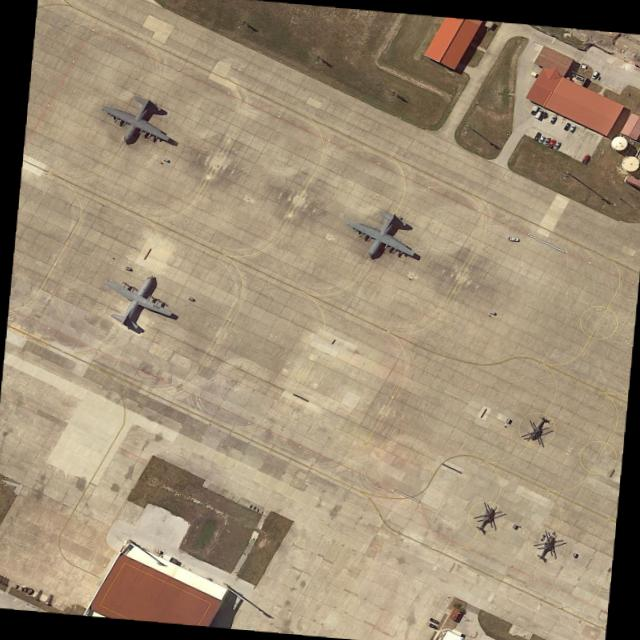large-vehicle: (532, 106, 543, 117)
plane: (89, 258, 183, 341), (88, 81, 184, 161), (334, 197, 426, 273)
small-vehicle: (579, 152, 590, 164), (587, 69, 598, 79), (546, 112, 556, 123), (531, 130, 541, 140), (546, 136, 555, 147), (551, 139, 560, 149), (566, 122, 575, 132), (542, 134, 550, 144), (562, 120, 570, 130), (505, 235, 517, 241), (536, 133, 544, 142)
storage-tank: (619, 154, 638, 171), (609, 133, 626, 149)
